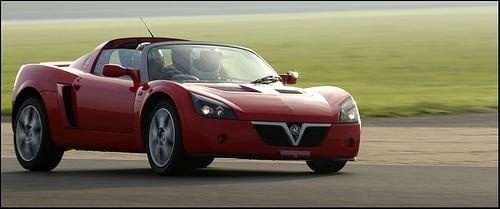car: (15, 31, 366, 176)
